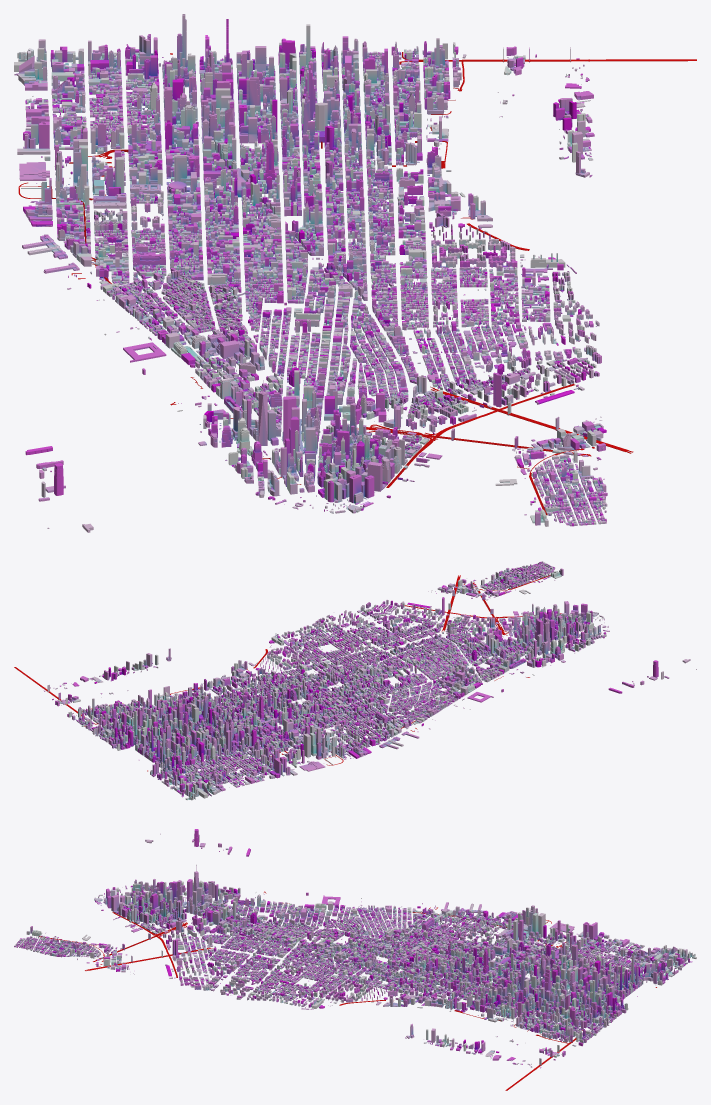
Rendered from new-york.glb.
3 renders of one model, top to bottom at view 1: azimuth 30°, elevation 25°; view 2: azimuth 150°, elevation 25°; view 3: azimuth 270°, elevation 25°, orthographic. The views are drawn at different scales.
Parts seen in each view (by area): view 1: city; view 2: city; view 3: city.
Part boxes in pixels (left/top/right/bottom): city: left=14, top=14, right=696, bottom=532; city: left=14, top=561, right=696, bottom=800; city: left=14, top=829, right=696, bottom=1090.
Bounding box in the file's own units: 8232 × 541 × 9235.
